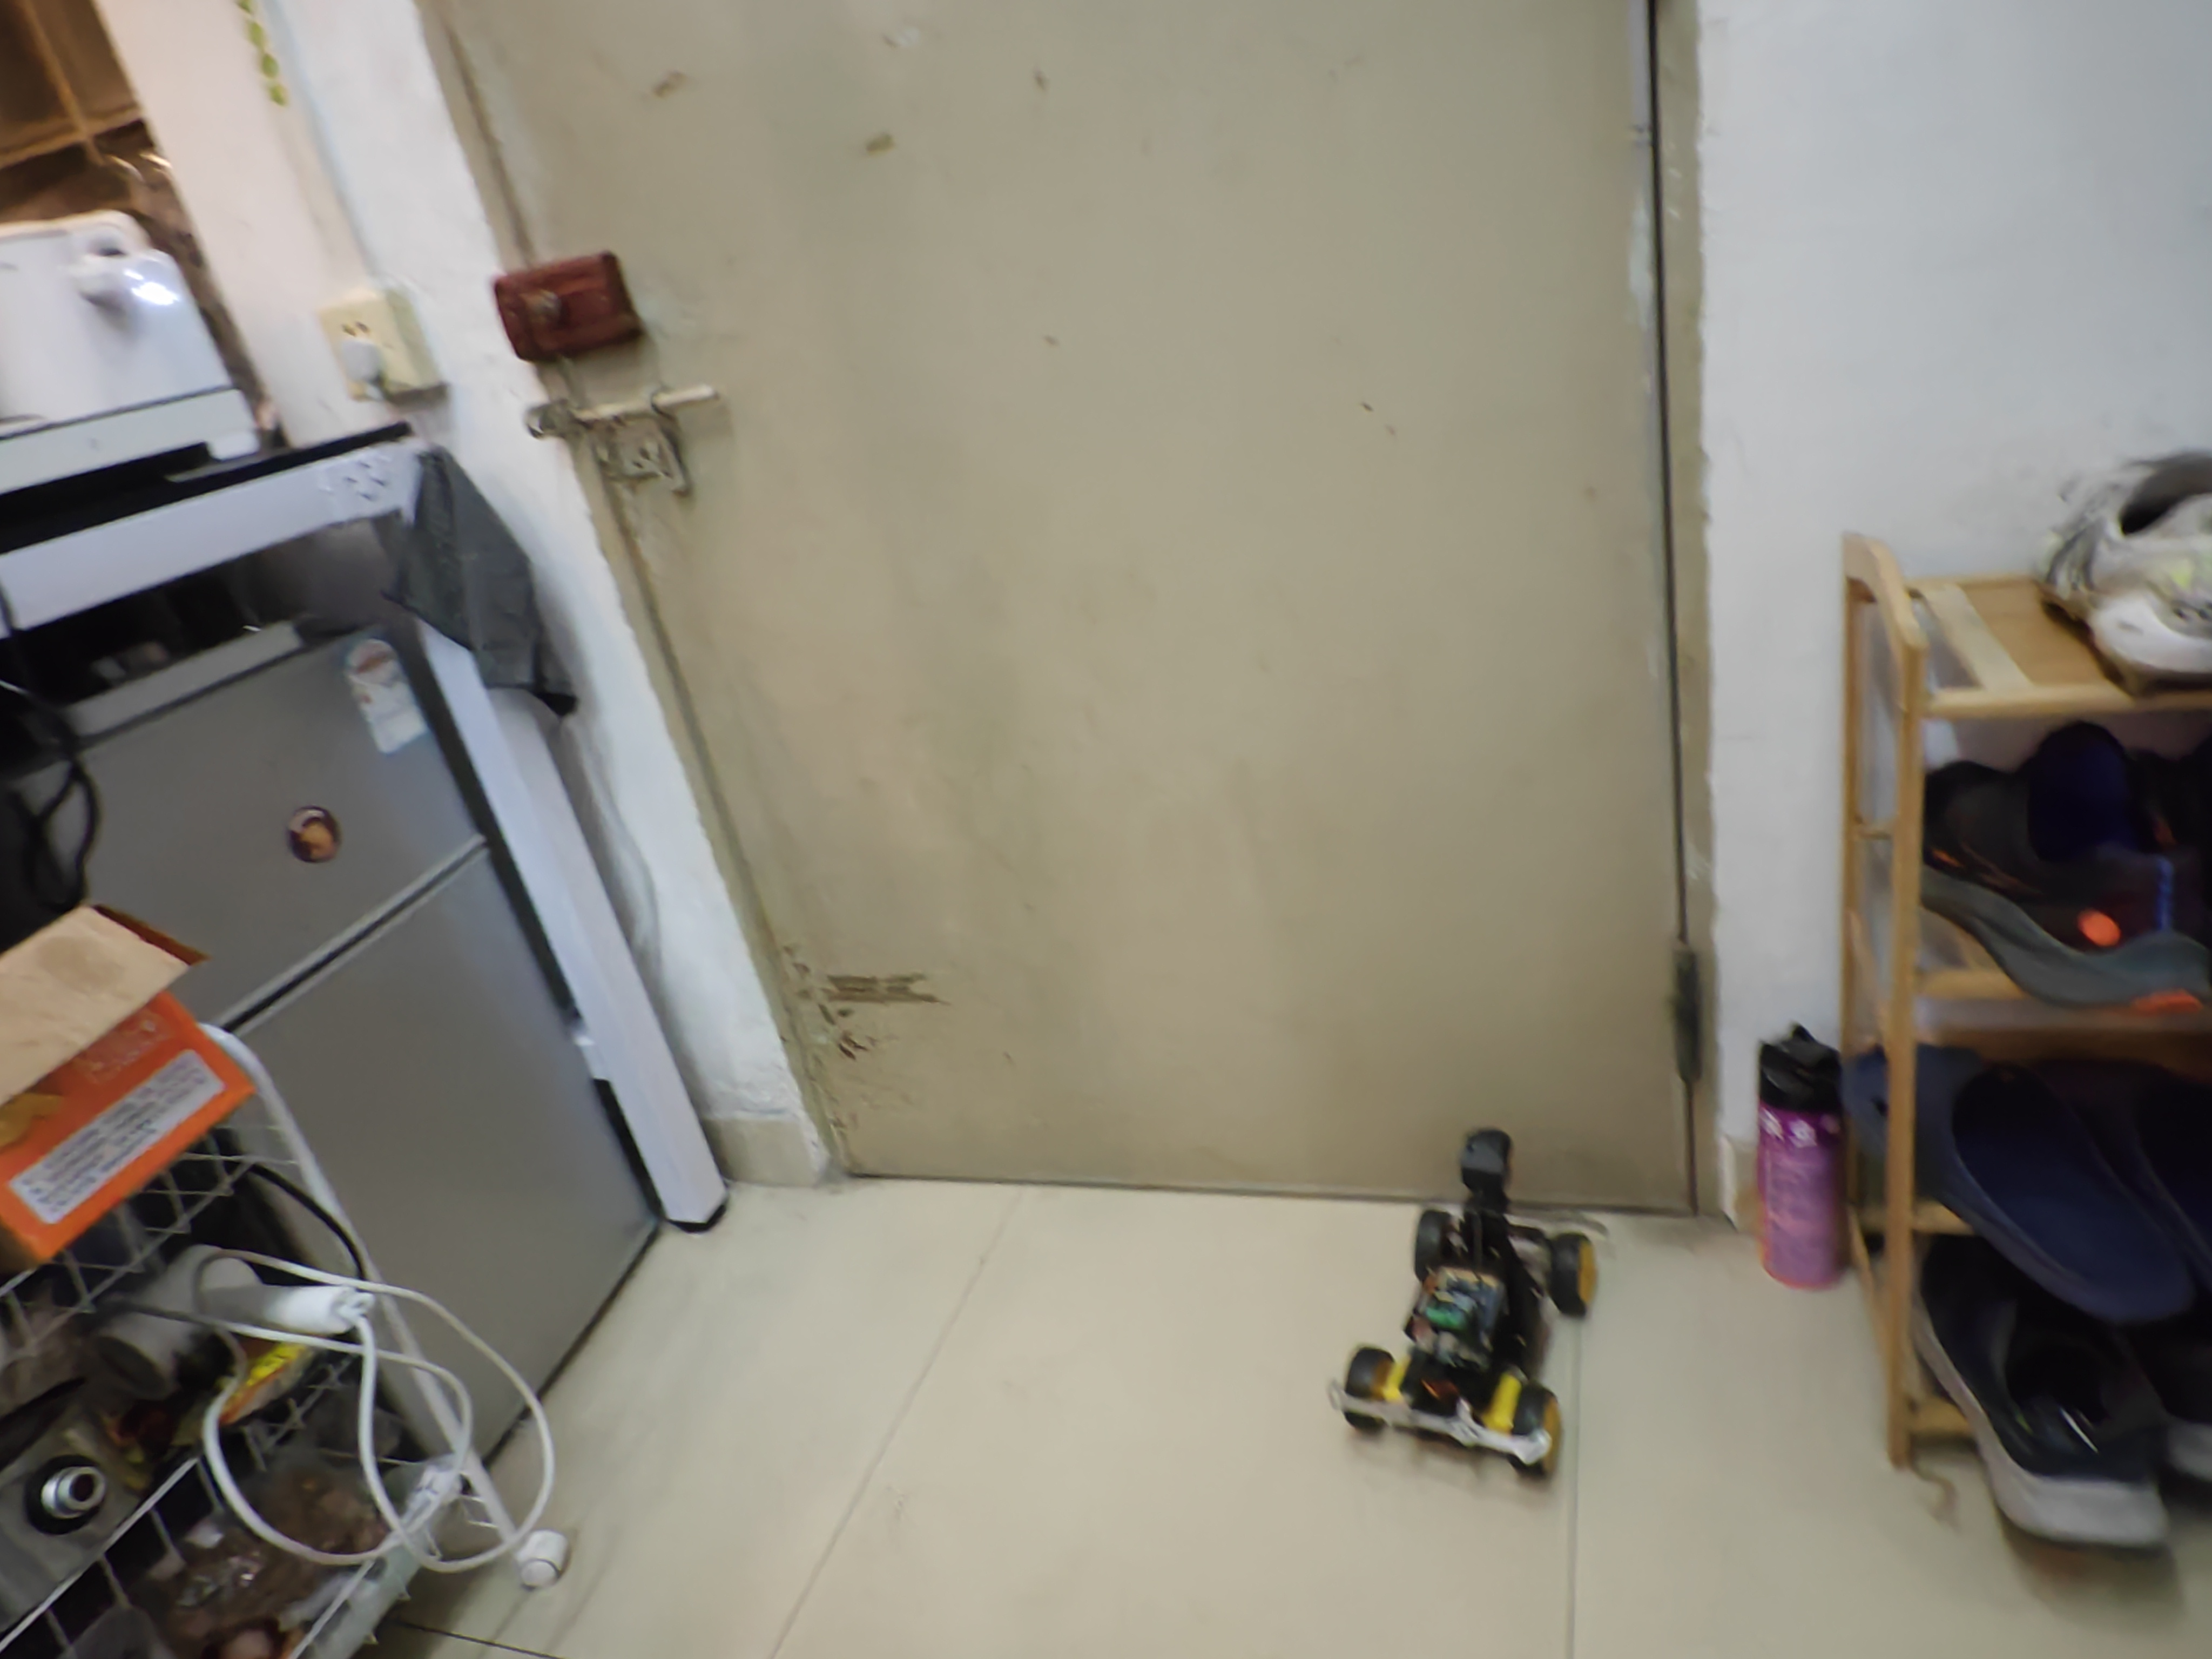car: (1318, 1110, 1611, 1495)
